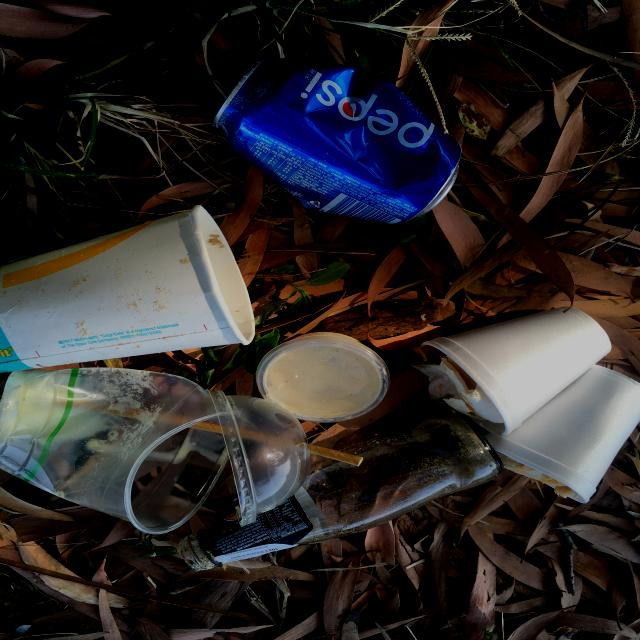Disposable food container: (255, 332, 391, 423)
Disposable plastic cup: (0, 367, 229, 535)
Drink can: (213, 56, 461, 225)
Foam cup: (420, 305, 612, 436), (483, 365, 640, 503)
Glass bottle: (179, 406, 504, 570)
Paper cup: (0, 205, 255, 373)
Paper straw: (188, 422, 364, 467)
Plastic lid: (207, 389, 312, 527), (255, 335, 391, 423)
Unlabeled litter: (409, 353, 504, 423)
